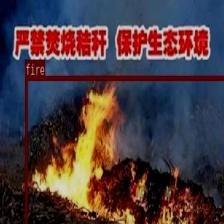fire: (24, 74, 223, 224)
